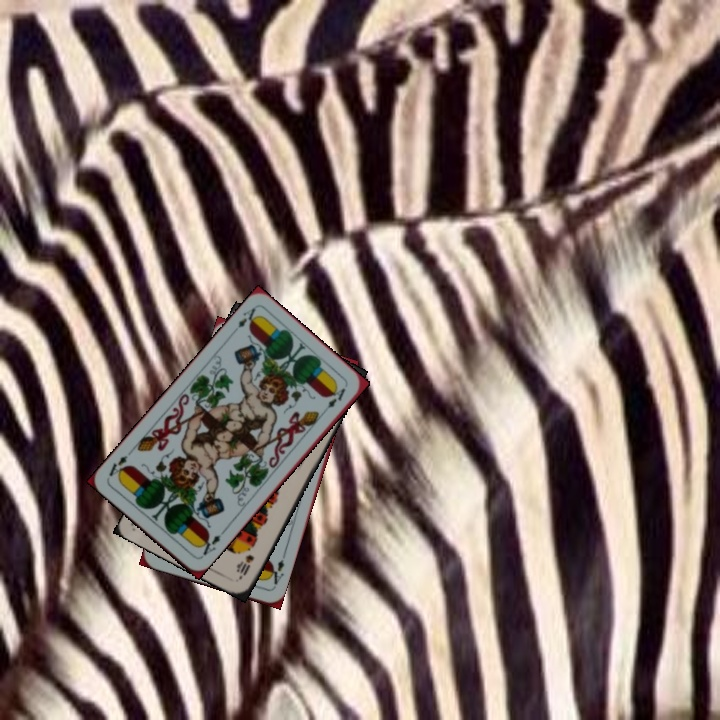EA: (228, 304, 261, 337), (264, 551, 288, 590), (194, 530, 223, 560)
S10: (234, 550, 257, 581)
